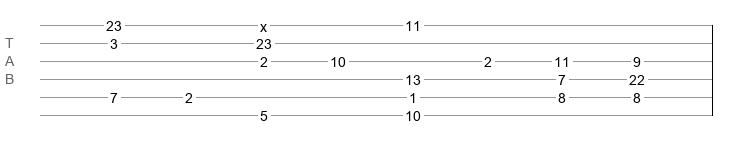1: (409, 90, 417, 100)
10: (330, 54, 346, 64), (405, 108, 421, 118)
11: (405, 18, 421, 28), (554, 54, 570, 64)
13: (405, 72, 421, 82)
2: (185, 90, 193, 100), (260, 54, 268, 64), (484, 54, 492, 64)
22: (629, 72, 645, 82)
23: (106, 18, 122, 28), (256, 36, 272, 46)
3: (110, 36, 118, 46)
5: (260, 108, 268, 118)
7: (110, 90, 118, 100), (558, 72, 566, 82)
8: (558, 90, 566, 100), (633, 90, 641, 100)
9: (633, 54, 641, 64)
x: (260, 19, 267, 27)
